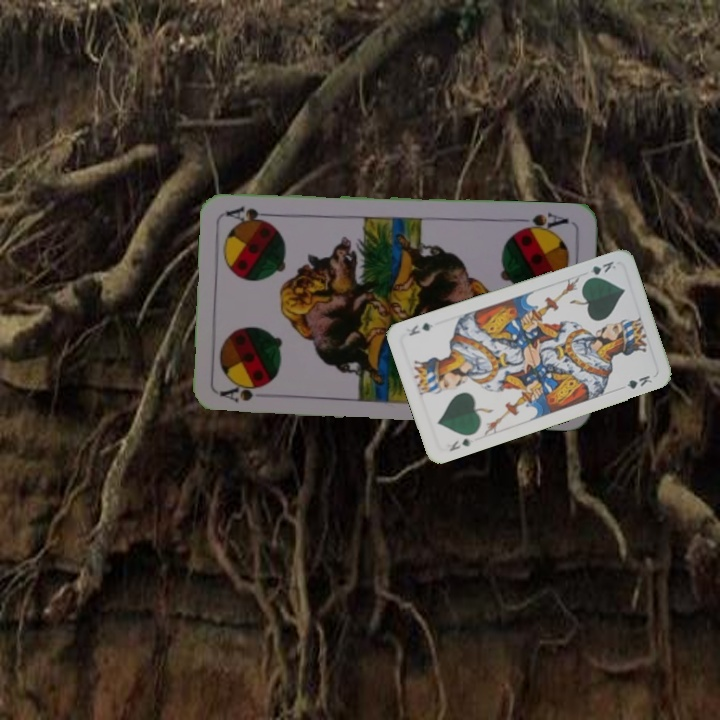GK: (582, 257, 619, 282), (445, 434, 473, 454)
SA: (514, 209, 570, 236), (217, 382, 264, 405)
